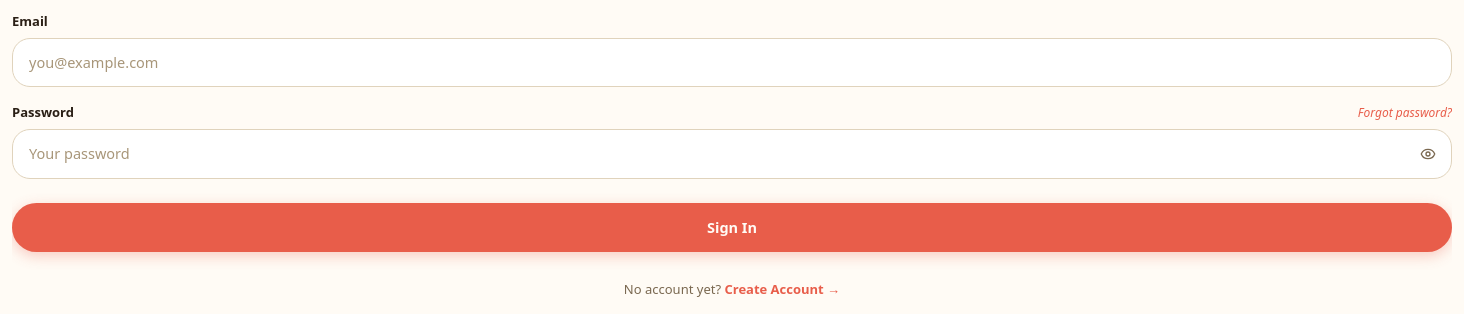
Scenario: LoginForm › shows loading state when submitting
The image size is (1464, 314).
Type "test@example.com" into the field labelled "Email" at [732, 62], box [12, 38, 1452, 87]
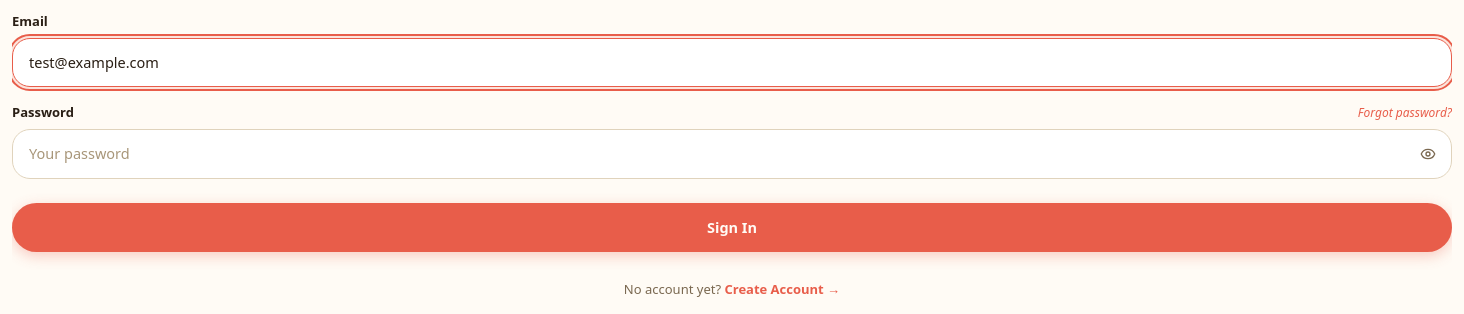
Type "Passw0rd!" into the password field labelled "Password" at [732, 154], box [12, 129, 1452, 179]
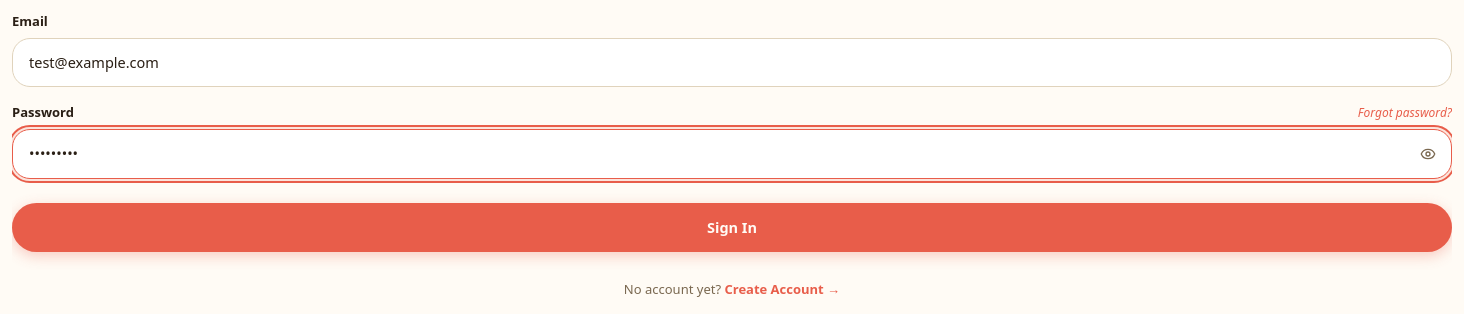
Click the button "Sign In" at [732, 227], box [12, 202, 1452, 252]
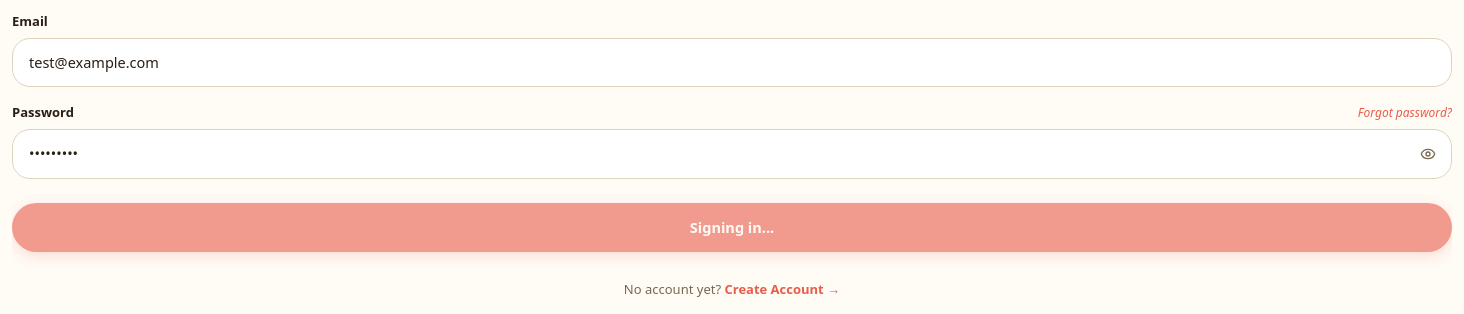
Check: the button "Signing in..." is shown, box [12, 202, 1452, 252]
